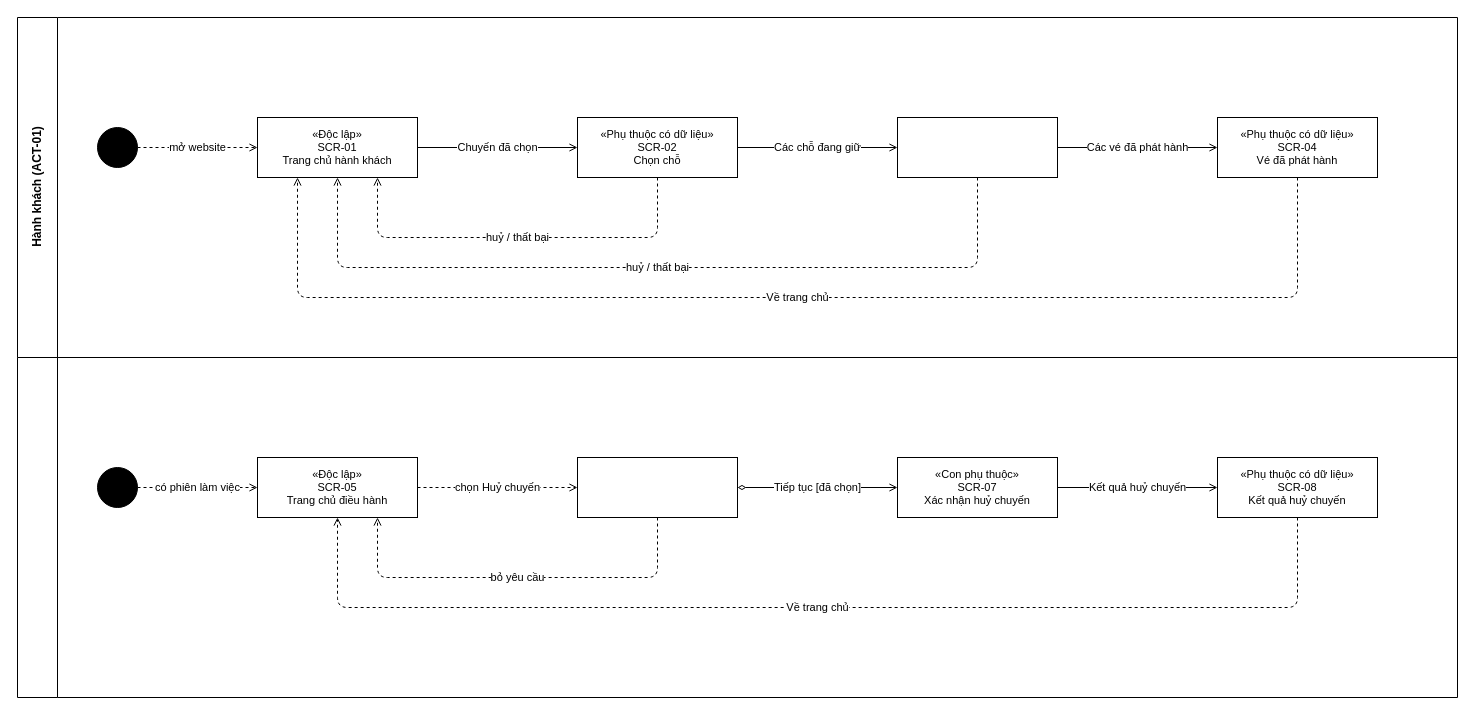
Image size: 1475x715. Some labels were removed from this diagram. The box of each missing label's shape, as (x1, y1, x2, y2) in pixels:
Nhân viên điều hành (ACT-03): (16, 356, 1458, 698)
«Phụ thuộc có dữ liệu» SCR-03 Nhập thông tin người đi: (896, 116, 1058, 178)
«Độc lập» SCR-06 Chọn chuyến cần huỷ: (576, 456, 738, 518)
